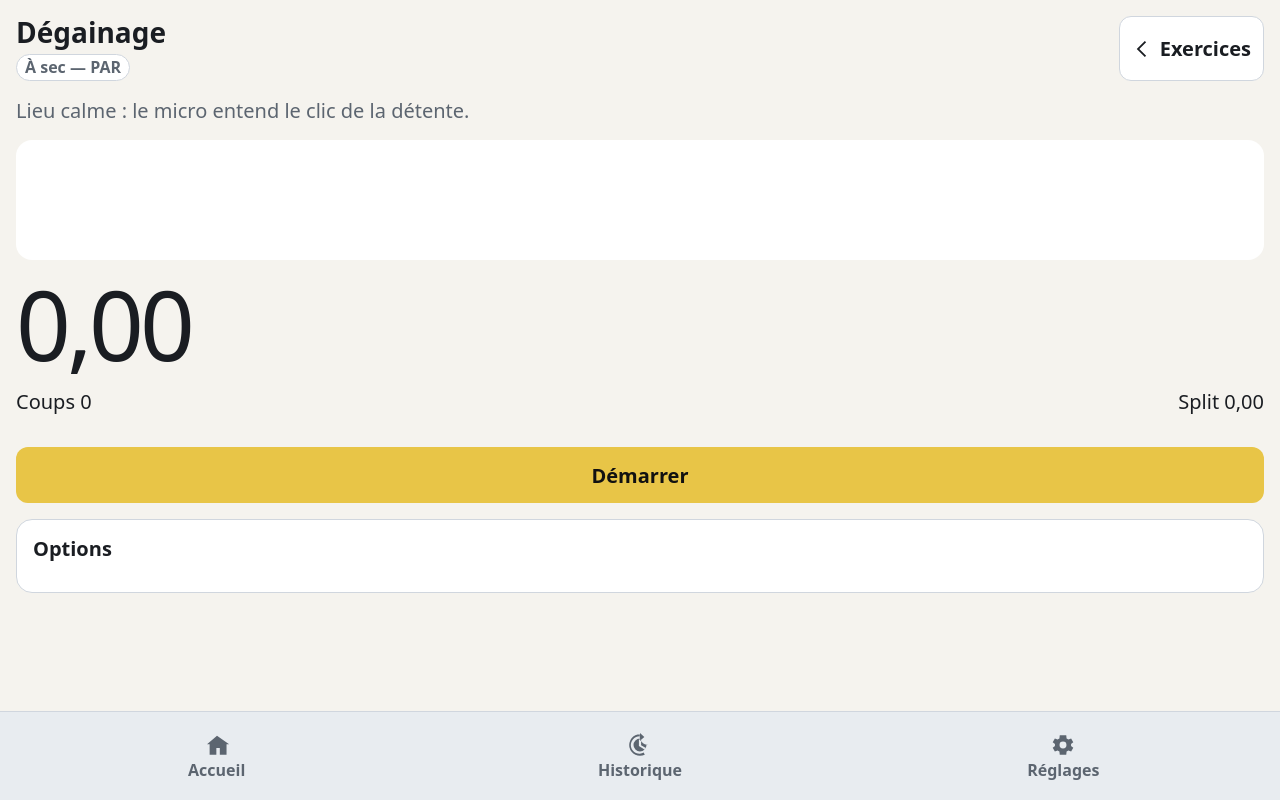
Scenario: pages › shows the PAR error in French
What coordinates should you click on to do the following:
click the button with test id "start"
I would click on:
 (640, 475)
Its box is top-left (16, 447), bottom-right (1264, 503).
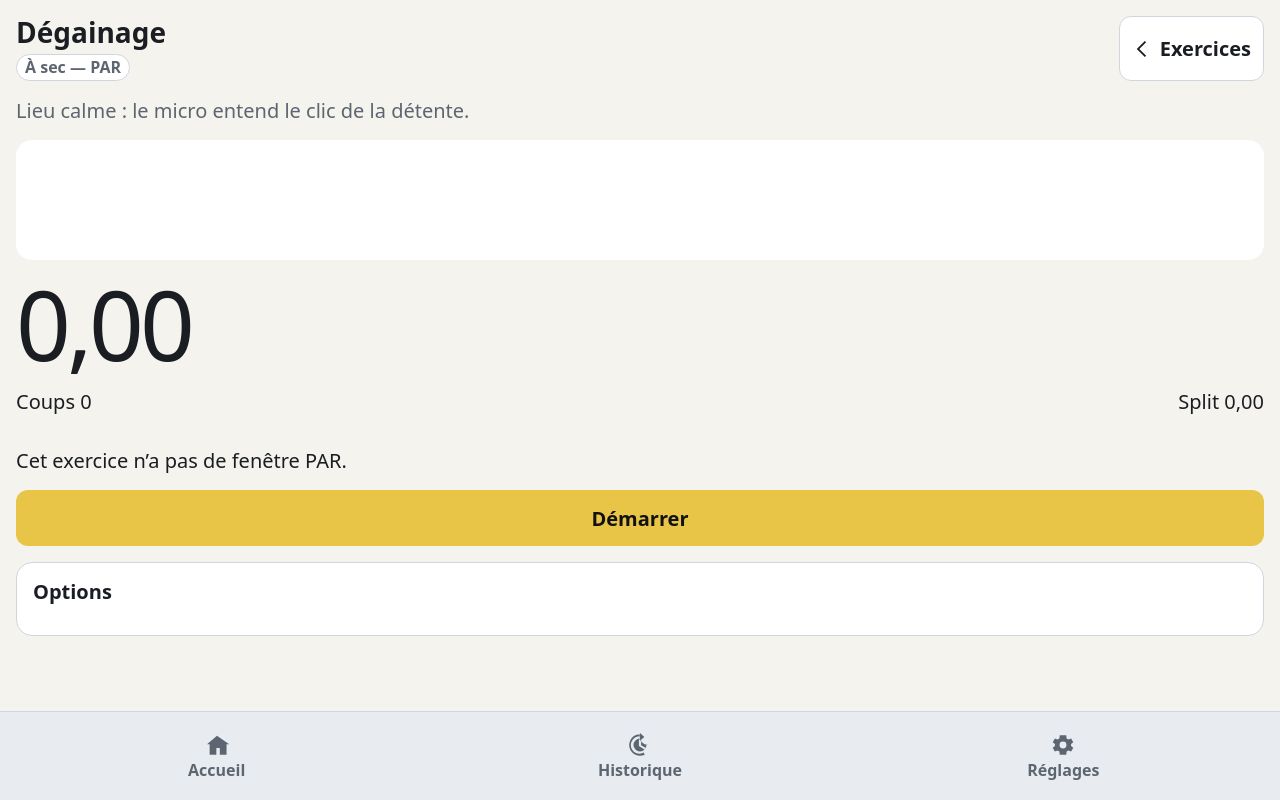
Result: the text with test id "run-error" reads "Cet exercice n’a pas de fenêtre PAR." at top-left (16, 447), bottom-right (347, 474)
